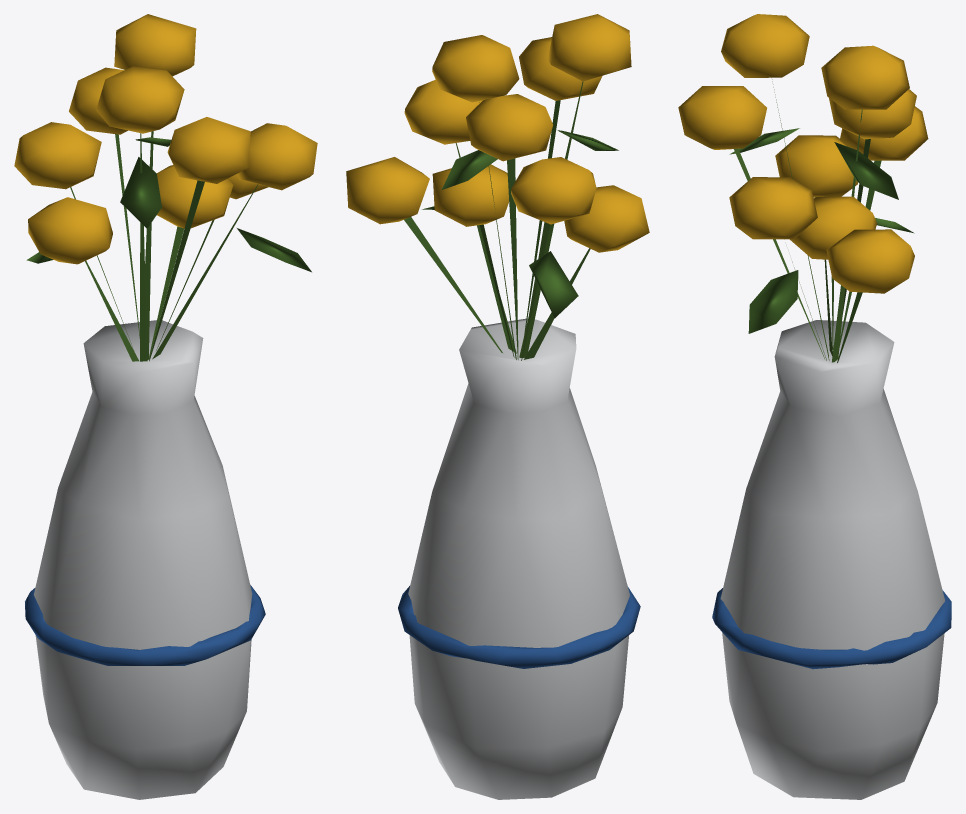
The model's file is binh_cuc.glb.
The picture shows the model from 3 angles, left to right: view 1: azimuth 30°, elevation 25°; view 2: azimuth 150°, elevation 25°; view 3: azimuth 270°, elevation 25°; orthographic projection.
Parts seen in each view (by area): view 1: binh_cuc; view 2: binh_cuc; view 3: binh_cuc.
Part boxes in pixels (x1,y1,x2,y2): binh_cuc: (14, 14, 317, 799); binh_cuc: (346, 14, 649, 799); binh_cuc: (678, 14, 951, 799).
Bounding box in the file's own units: 0.1781 × 0.4681 × 0.1586.
